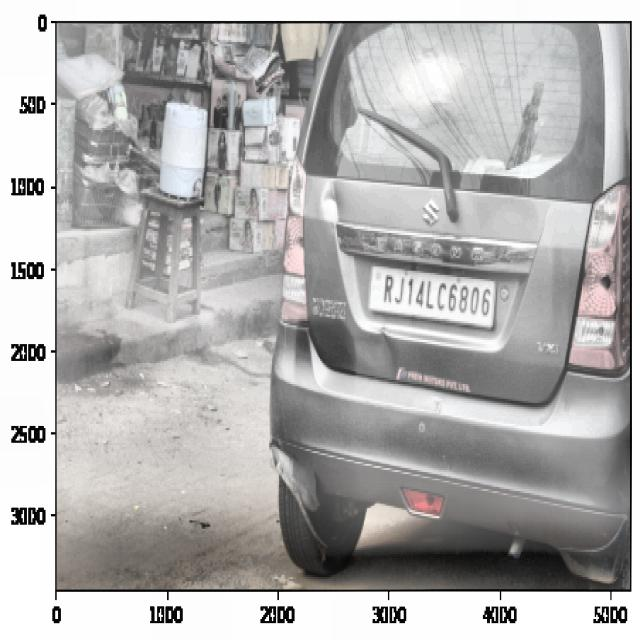license_plate: (377, 270, 495, 321)
